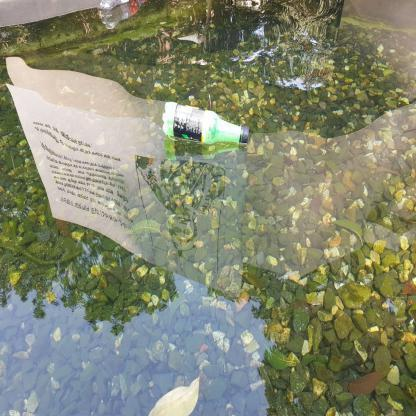plastic bottle: (162, 99, 249, 144)
